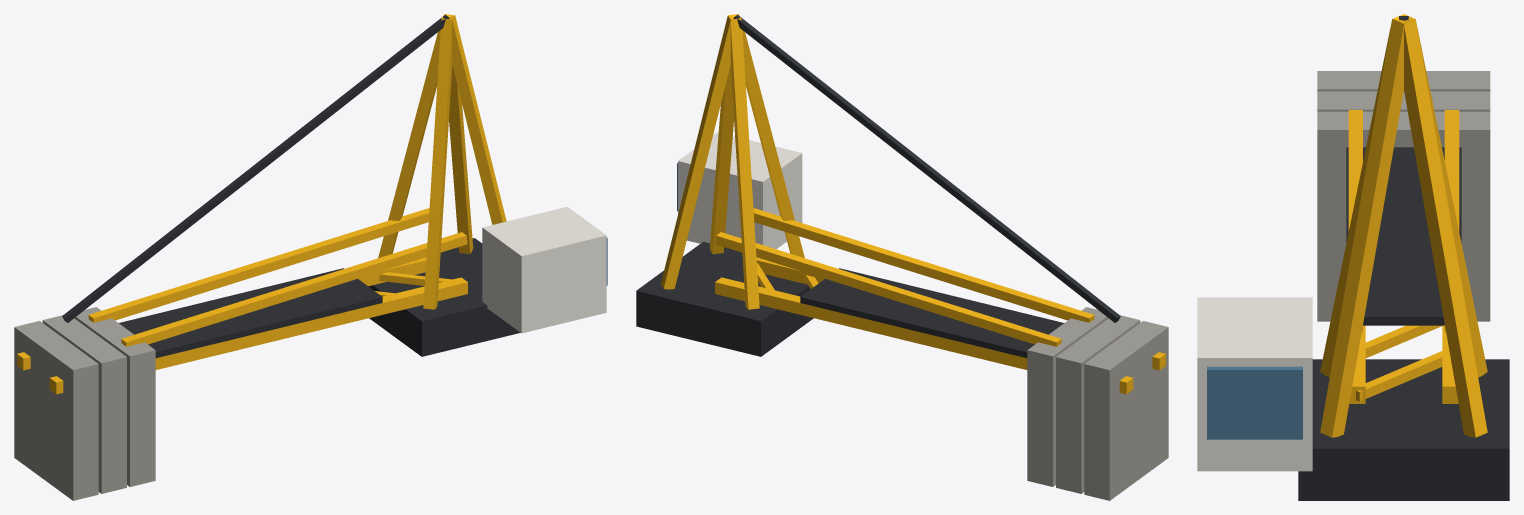
Rendered from crane_top.glb.
3 views of the same model, side by side, from view 1: azimuth 30°, elevation 25°; view 2: azimuth 150°, elevation 25°; view 3: azimuth 270°, elevation 25° (orthographic). The views are drawn at different scales.
Visible parts, largest first — view 1: Cube.001, Cube.020, Cube.017, Cube, Cube.019, Cube.018, Cube.010, Cube.008, Cube.021, Cube.007, Cube.003, Cube.004 (+3 smaller); view 2: Cube.020, Cube, Cube.017, Cube.001, Cube.019, Cube.018, Cube.008, Cube.010, Cube.021, Cube.009, Cube.006, Cube.005 (+3 smaller); view 3: Cube, Cube.001, Cube.018, Cube.017, Cube.004, Cube.005, Cube.002, Cube.020, Cube.019, Cube.006, Cube.003, Cube.010 (+5 smaller).
Part boxes in pixels (box(x1,y1,x2,y2)): Cube.001: box(482, 206, 606, 333); Cube.020: box(14, 321, 98, 500); Cube.017: box(119, 268, 382, 358); Cube: box(368, 238, 520, 356); Cube.019: box(42, 315, 126, 493); Cube.018: box(74, 307, 155, 486); Cube.010: box(88, 208, 429, 322); Cube.008: box(121, 232, 467, 346); Cube.021: box(62, 14, 449, 322); Cube.007: box(49, 277, 467, 394); Cube.003: box(423, 18, 452, 309); Cube.004: box(449, 15, 506, 224); Cube.020: box(1084, 321, 1168, 500); Cube: box(636, 241, 813, 356); Cube.017: box(800, 268, 1063, 357); Cube.001: box(678, 132, 802, 249); Cube.019: box(1056, 315, 1140, 493); Cube.018: box(1027, 307, 1108, 486); Cube.008: box(753, 208, 1094, 322); Cube.010: box(715, 232, 1061, 346); Cube.021: box(733, 14, 1120, 322); Cube.009: box(715, 277, 1133, 394); Cube.006: box(730, 18, 759, 309); Cube.005: box(660, 15, 733, 289); Cube: box(1298, 359, 1509, 500); Cube.001: box(1197, 297, 1312, 471); Cube.018: box(1317, 111, 1490, 321); Cube.017: box(1346, 147, 1461, 325); Cube.004: box(1320, 19, 1405, 437); Cube.005: box(1402, 19, 1487, 437); Cube.002: box(1207, 366, 1302, 439); Cube.020: box(1317, 71, 1490, 91); Cube.019: box(1317, 91, 1490, 111); Cube.006: box(1404, 14, 1487, 377); Cube.003: box(1320, 14, 1403, 377); Cube.010: box(1444, 110, 1459, 332).
Size of the model in its own units: 1.78 by 1.23 by 0.65.
